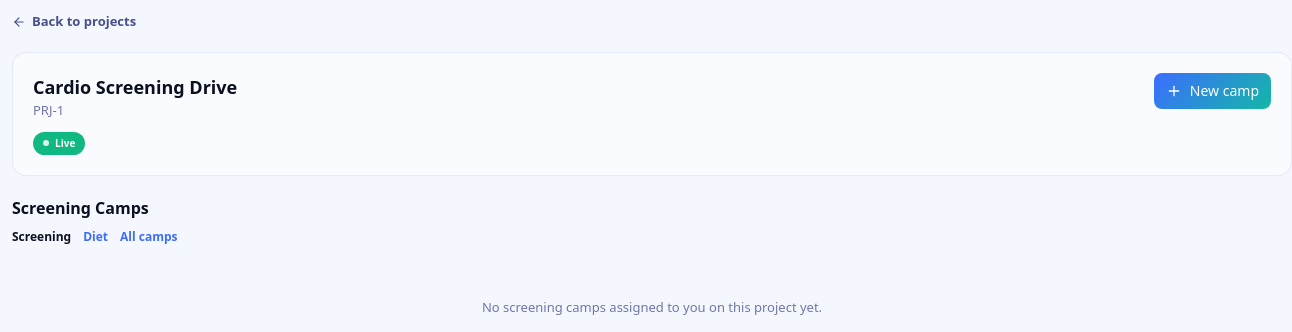
Test: PharmaScreeningCampsPage / PharmaDietCampsPage — separate routes, shared TypeScopedPharmaCampsPage body › clicking Diet from the Screening page navigates directly to Diet for the SAME project — no detour through "Your projects"
The width and height of the screenshot is (1292, 332).
expect the text "No screening camps assigned to you on this project yet." is shown: met, box [482, 298, 822, 316]
Click the button "Diet" at (96, 236), box [83, 228, 108, 246]
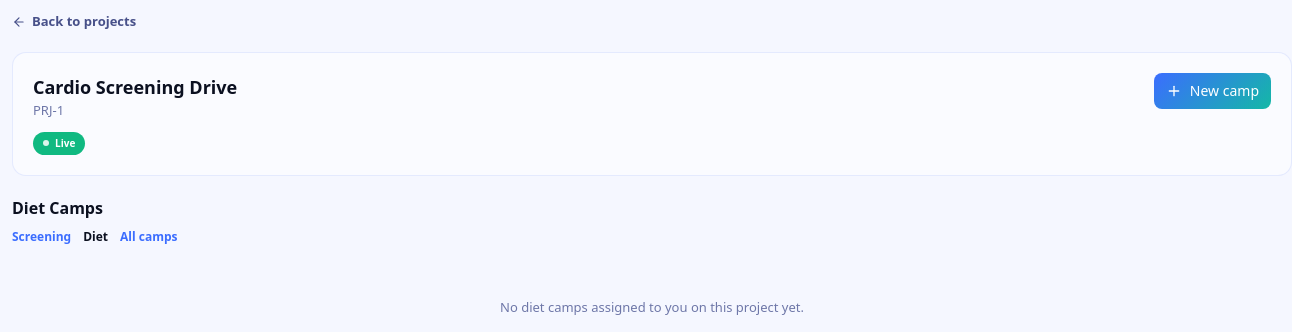
expect the text "No diet camps assigned to you on this project yet." is shown: met, box [500, 298, 804, 316]
